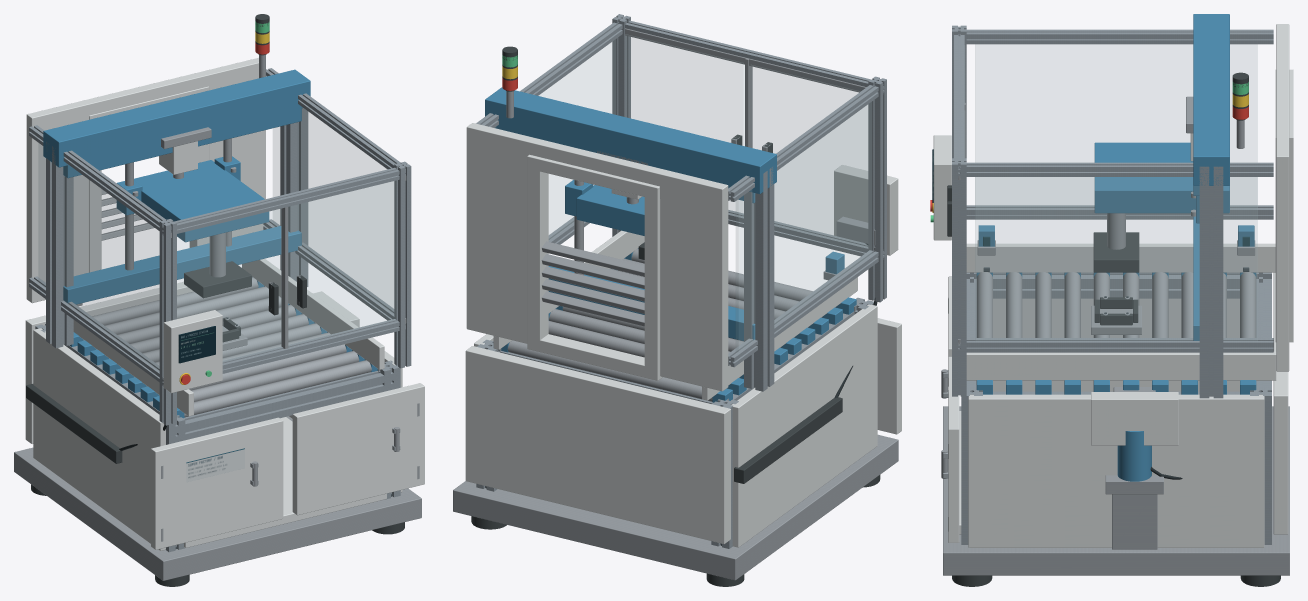
Rendered from b60-station-1.0.4.glb.
The picture shows the model from 3 angles, left to right: view 1: azimuth 30°, elevation 25°; view 2: azimuth 150°, elevation 25°; view 3: azimuth 270°, elevation 25°; orthographic projection. The views are drawn at different scales.
Visible parts, largest first — view 1: side_lower_cover_-0.86, clear_safety_door_0.43, side_upper_guard_-0.86, side_service_door_0.52, side_upper_guard_0.86, side_service_door_-0.52, clear_safety_door_-0.43, welded_base_bottom, gantry_crossbeam, guide_end_crossmember_1.5, ram_cantilever, upper_cross_rail_-0.79 (+41 smaller); view 2: rear_lower_service_cover, side_lower_cover_-0.86, side_upper_guard_-0.86, clear_safety_door_-0.43, welded_base_bottom, rear_upper_left_panel, rear_upper_right_panel, gantry_crossbeam, clear_safety_door_0.43, rear_upper_header, gantry_vertical_-0.86, side_upper_guard_0.86 (+33 smaller); view 3: side_upper_guard_0.86, side_lower_cover_0.86, side_upper_guard_-0.86, welded_base_bottom, product_edge_rail_0.7, product_edge_rail_-0.7, gantry_crossbeam, gantry_vertical_0.86, ram_cantilever, side_lower_cover_-0.86, transmission_guard, side_guard_rail_-0.86_2.5 (+35 smaller).
Boxes of the visible parts, <box> form: side_lower_cover_-0.86: <box>33,328,165,550</box>; clear_safety_door_0.43: <box>289,181,395,345</box>; side_upper_guard_-0.86: <box>39,144,158,370</box>; side_service_door_0.52: <box>292,383,424,515</box>; side_upper_guard_0.86: <box>273,107,393,313</box>; side_service_door_-0.52: <box>151,417,283,549</box>; clear_safety_door_-0.43: <box>177,209,281,361</box>; welded_base_bottom: <box>14,416,421,580</box>; gantry_crossbeam: <box>43,69,310,167</box>; guide_end_crossmember_1.5: <box>63,226,301,304</box>; ram_cantilever: <box>134,161,269,242</box>; upper_cross_rail_-0.79: <box>166,371,393,444</box>; rear_lower_service_cover: <box>465,346,730,544</box>; side_lower_cover_-0.86: <box>731,304,877,547</box>; side_upper_guard_-0.86: <box>736,102,871,351</box>; clear_safety_door_-0.43: <box>751,65,867,247</box>; welded_base_bottom: <box>453,434,898,580</box>; rear_upper_left_panel: <box>660,178,728,391</box>; rear_upper_right_panel: <box>466,131,528,343</box>; gantry_crossbeam: <box>485,87,776,193</box>; clear_safety_door_0.43: <box>625,34,744,217</box>; rear_upper_header: <box>466,123,728,213</box>; gantry_vertical_-0.86: <box>744,167,774,391</box>; side_upper_guard_0.86: <box>495,40,615,240</box>; side_upper_guard_0.86: <box>975,177,1257,340</box>; side_lower_cover_0.86: <box>968,394,1264,547</box>; side_upper_guard_-0.86: <box>975,45,1257,207</box>; welded_base_bottom: <box>943,406,1289,575</box>; product_edge_rail_0.7: <box>966,351,1276,380</box>; product_edge_rail_-0.7: <box>966,243,1275,272</box>; gantry_crossbeam: <box>1193,14,1229,185</box>; gantry_vertical_0.86: <box>1199,166,1223,398</box>; ram_cantilever: <box>1094,142,1228,213</box>; side_lower_cover_-0.86: <box>993,298,1239,391</box>; transmission_guard: <box>1091,392,1178,445</box>; side_guard_rail_-0.86_2.5: <box>959,29,1273,44</box>.
Bounding box in the file's own units: 1.98 × 3 × 1.99.
Materials: 16 (5 with a texture image).
